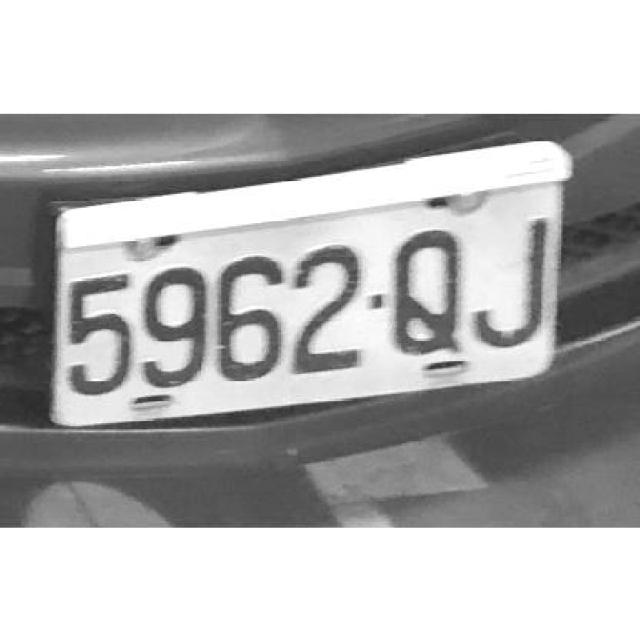-: (368, 291, 384, 312)
2: (289, 243, 368, 375)
5: (61, 270, 134, 392)
6: (212, 250, 286, 382)
9: (135, 262, 211, 389)
J: (469, 212, 549, 352)
Q: (388, 226, 462, 357)
